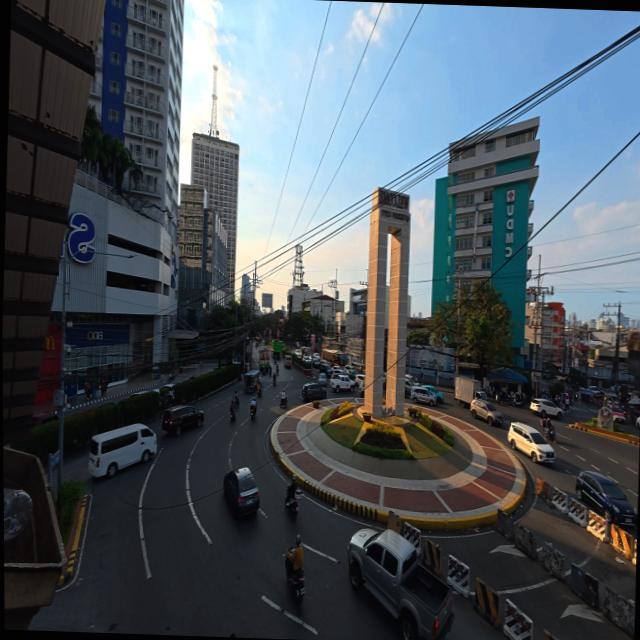car: (220, 466, 259, 521), (503, 422, 554, 464), (163, 403, 206, 438), (470, 401, 505, 428), (408, 383, 445, 405), (329, 371, 358, 394), (300, 382, 326, 402)
trucks: (344, 519, 460, 640)
vans: (87, 420, 160, 480)
